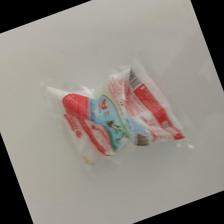Ajinomoto: (41, 53, 199, 174)
